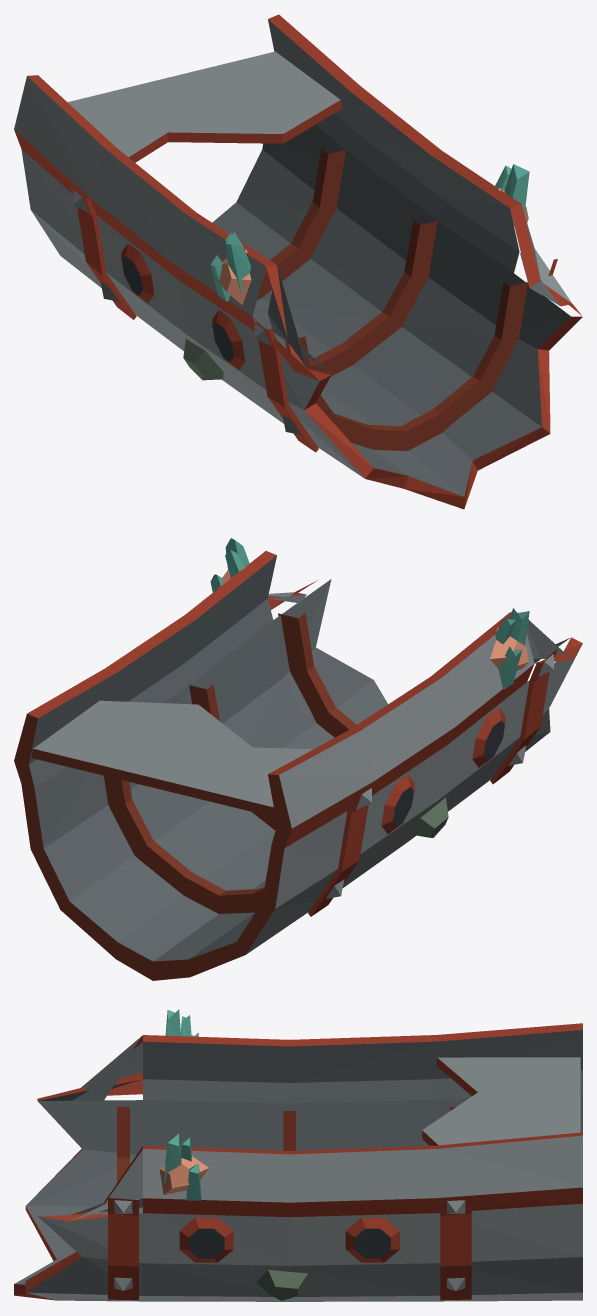
The model's file is steel-wreck-hull-section-b3132a.glb.
3 views of the same model, one above another, from view 1: azimuth 30°, elevation 25°; view 2: azimuth 150°, elevation 25°; view 3: azimuth 270°, elevation 25° (orthographic). The views are drawn at different scales.
Parts seen in each view (by area): view 1: hull-shell; view 2: hull-shell; view 3: hull-shell.
Part boxes in pixels (<box>): hull-shell: <box>14,14,582,509</box>; hull-shell: <box>14,538,582,980</box>; hull-shell: <box>14,1009,582,1301</box>.
Size of the model in its own units: 3.32 by 2.53 by 5.82.
